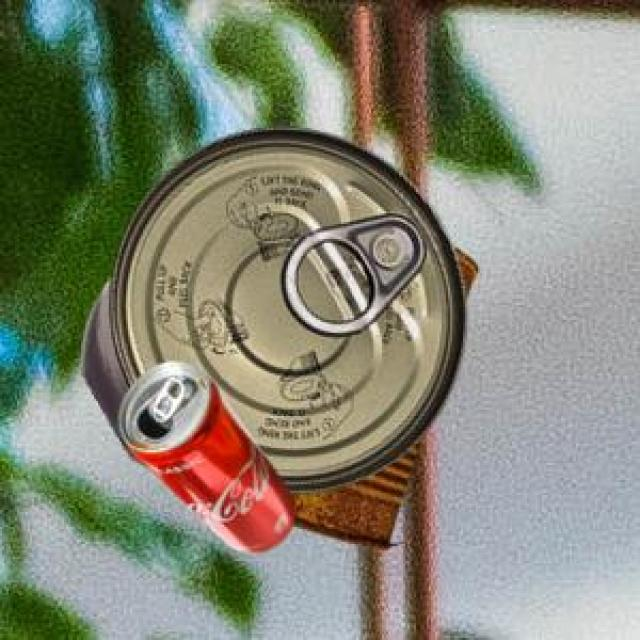logam: (78, 125, 462, 490), (287, 246, 475, 547), (116, 359, 291, 549)
